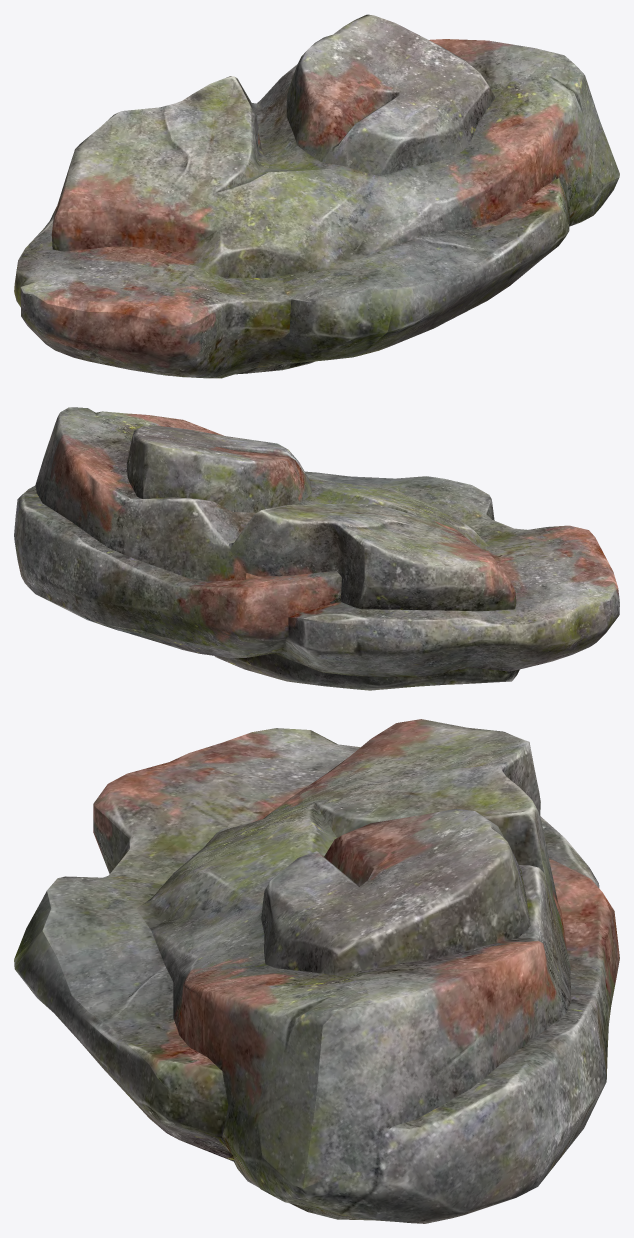
The picture shows the model from 3 angles, top to bottom: view 1: azimuth 30°, elevation 25°; view 2: azimuth 150°, elevation 25°; view 3: azimuth 270°, elevation 25°; orthographic projection. The views are drawn at different scales.
Parts seen in each view (by area): view 1: SM_Mining_Node_Large_Iron_01_LOD0; view 2: SM_Mining_Node_Large_Iron_01_LOD0; view 3: SM_Mining_Node_Large_Iron_01_LOD0.
Part boxes in pixels (x1,y1,x2,y2): SM_Mining_Node_Large_Iron_01_LOD0: (14, 14, 619, 378); SM_Mining_Node_Large_Iron_01_LOD0: (14, 407, 619, 690); SM_Mining_Node_Large_Iron_01_LOD0: (14, 719, 619, 1223).
Size of the model in its own units: 5.52 by 2.18 by 3.38.
